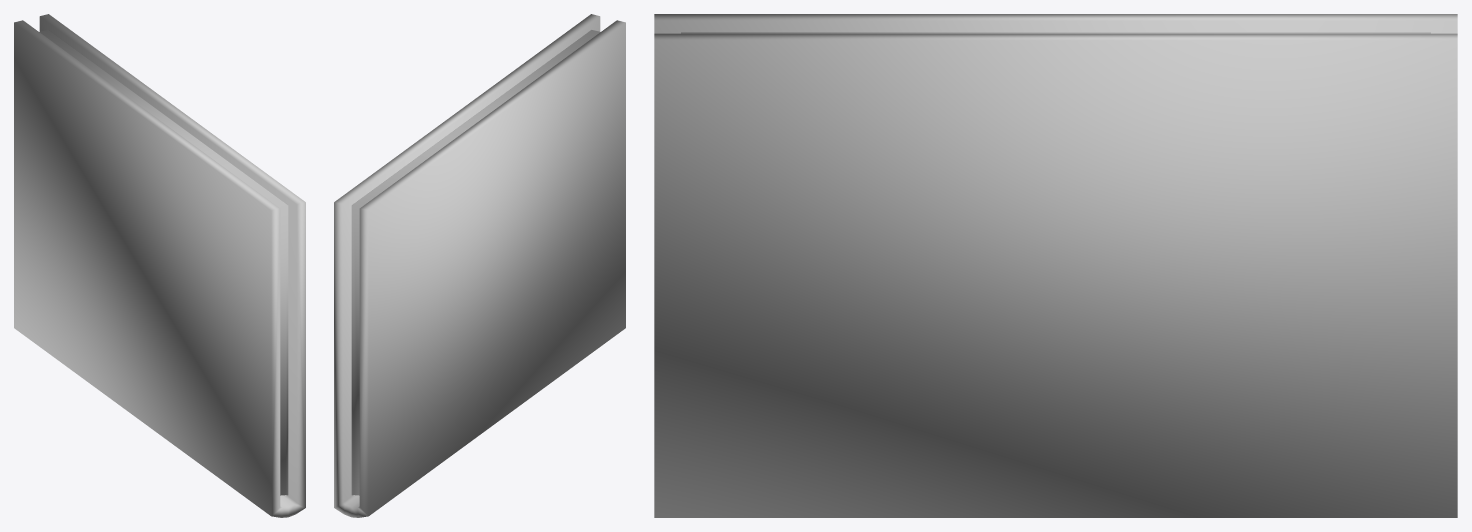
Rendered from BookCover(Closed).fbx.
The picture shows the model from 3 angles, left to right: view 1: azimuth 30°, elevation 25°; view 2: azimuth 150°, elevation 25°; view 3: azimuth 270°, elevation 25°; orthographic projection. The views are drawn at different scales.
Parts seen in each view (by area): view 1: BookCover(Closed); view 2: BookCover(Closed); view 3: BookCover(Closed).
Part boxes in pixels (left/top/right/bottom): BookCover(Closed): left=14, top=14, right=305, bottom=517; BookCover(Closed): left=334, top=14, right=625, bottom=517; BookCover(Closed): left=654, top=14, right=1457, bottom=517.
Bounding box in the file's own units: 3.5 × 30.01 × 45.
